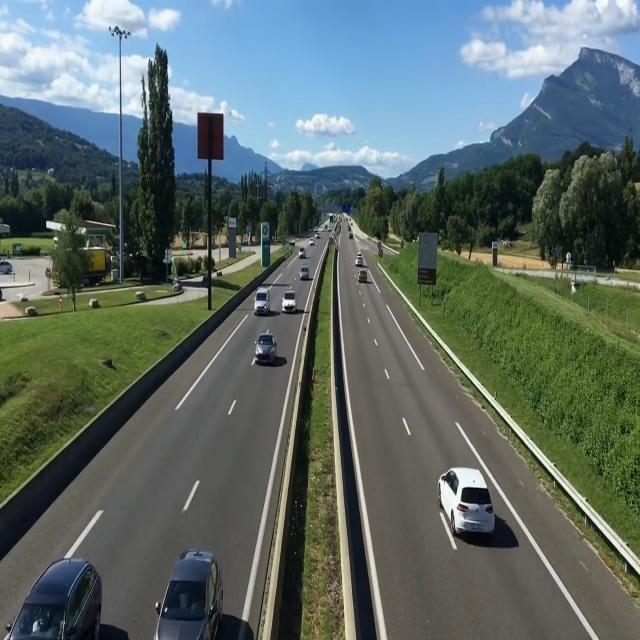Car: (2, 556, 113, 640), (150, 549, 248, 640), (437, 463, 498, 540), (249, 330, 283, 366), (280, 282, 302, 318), (294, 260, 317, 284), (351, 248, 369, 267), (356, 266, 373, 284), (294, 246, 312, 261)
Van: (249, 283, 274, 318)
